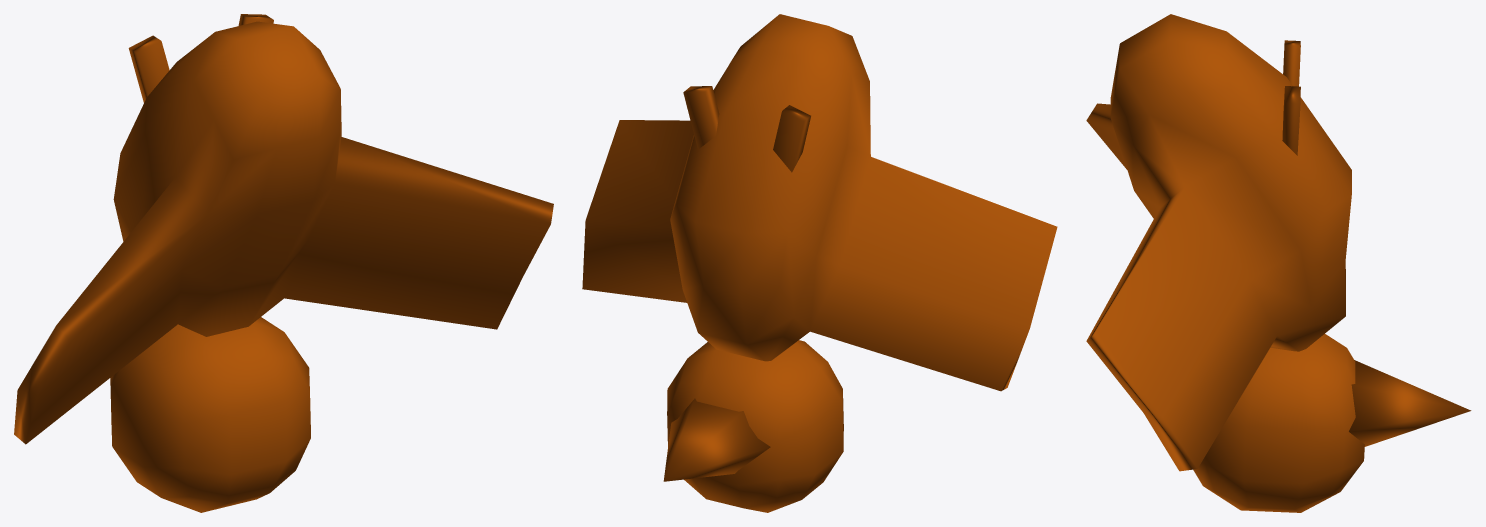
The model's file is ptaha.fbx.
The picture shows the model from 3 angles, left to right: view 1: azimuth 30°, elevation 25°; view 2: azimuth 150°, elevation 25°; view 3: azimuth 270°, elevation 25°; orthographic projection. The views are drawn at different scales.
Visible parts, largest first — view 1: pCube5; view 2: pCube5; view 3: pCube5.
Boxes of the visible parts, <box> form: pCube5: <box>14,14,553,512</box>; pCube5: <box>582,14,1057,512</box>; pCube5: <box>1086,14,1471,512</box>.
Bounding box in the file's own units: 8.16 × 7.77 × 5.73.
